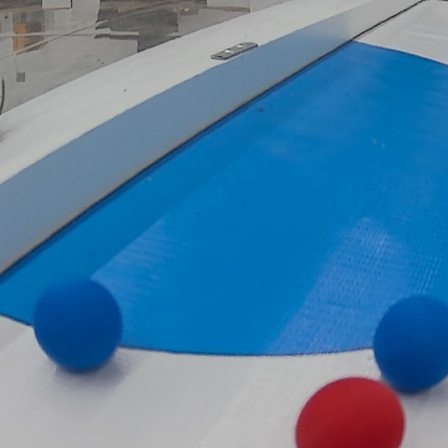blue: (37, 275, 128, 372), (373, 296, 448, 392)
blue_base: (0, 33, 448, 355)
red: (294, 376, 413, 448)
